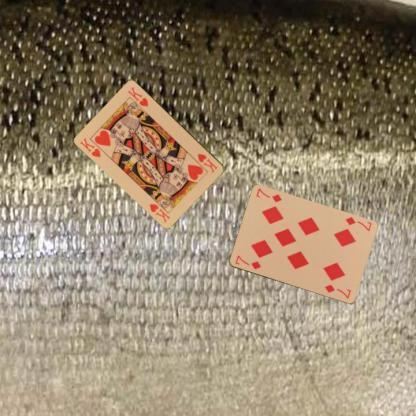7d: (232, 252, 262, 271), (342, 214, 372, 233)
Kh: (195, 151, 219, 174), (78, 135, 102, 158)
